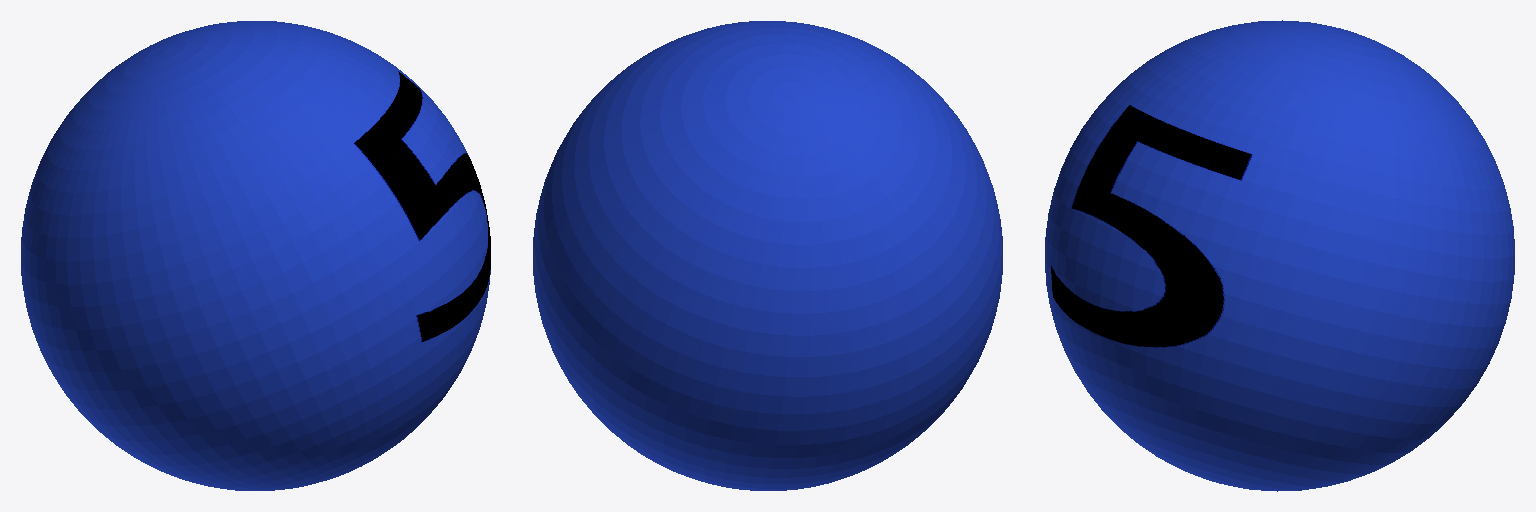
The picture shows the model from 3 angles: view 1: azimuth 30°, elevation 25°; view 2: azimuth 150°, elevation 25°; view 3: azimuth 270°, elevation 25°; orthographic projection.
Visible parts, largest first — view 1: Sphere; view 2: Sphere; view 3: Sphere.
Boxes of the visible parts, box(x1,y1,x2,y2) form: Sphere: box(21, 21, 490, 490); Sphere: box(533, 21, 1002, 490); Sphere: box(1045, 20, 1514, 491).
Bounding box in the file's own units: 2 × 2 × 2.
Materials: 1 (1 with a texture image).